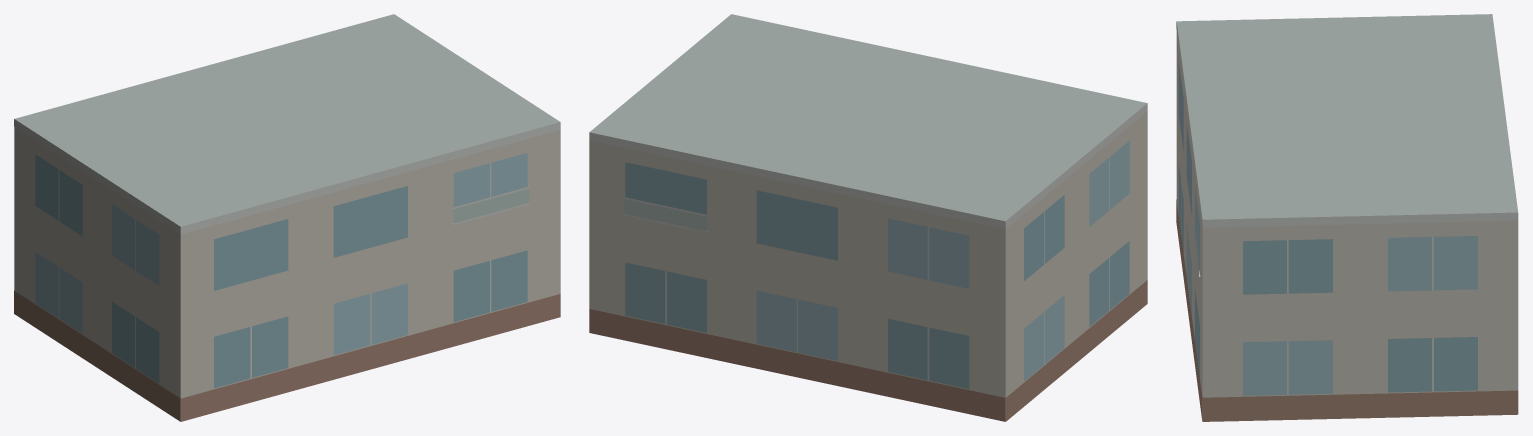
File: survey-upis-32706509.glb
The picture shows the model from 3 angles, left to right: view 1: azimuth 30°, elevation 25°; view 2: azimuth 150°, elevation 25°; view 3: azimuth 270°, elevation 25°; orthographic projection. The views are drawn at different scales.
Visible parts, largest first — view 1: survey-upis-32706509.tmp; view 2: survey-upis-32706509.tmp; view 3: survey-upis-32706509.tmp.
Boxes of the visible parts, box(x1,y1,x2,y2) form: survey-upis-32706509.tmp: box(14, 14, 560, 421); survey-upis-32706509.tmp: box(589, 14, 1147, 421); survey-upis-32706509.tmp: box(1176, 14, 1518, 421).
Bounding box in the file's own units: 13.32 × 6.1 × 9.35.
